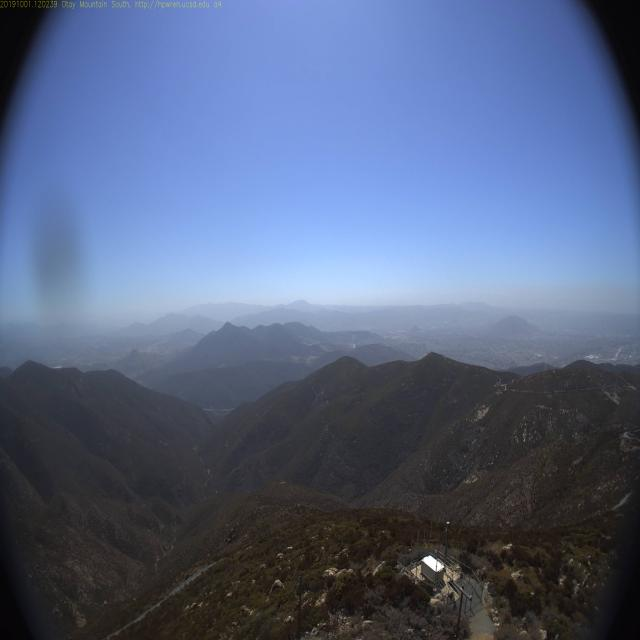smoke: (340, 328, 360, 352)
